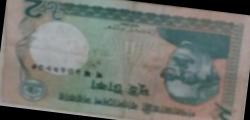2 taka: (7, 0, 244, 120)
